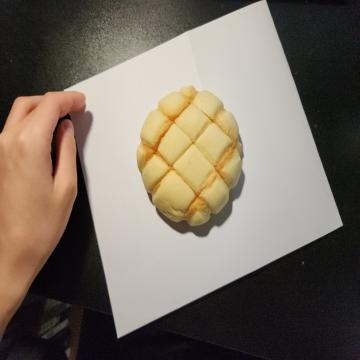melon_bread: (135, 87, 245, 228)
